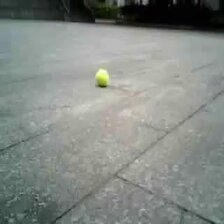tennis: (96, 69, 108, 86)
